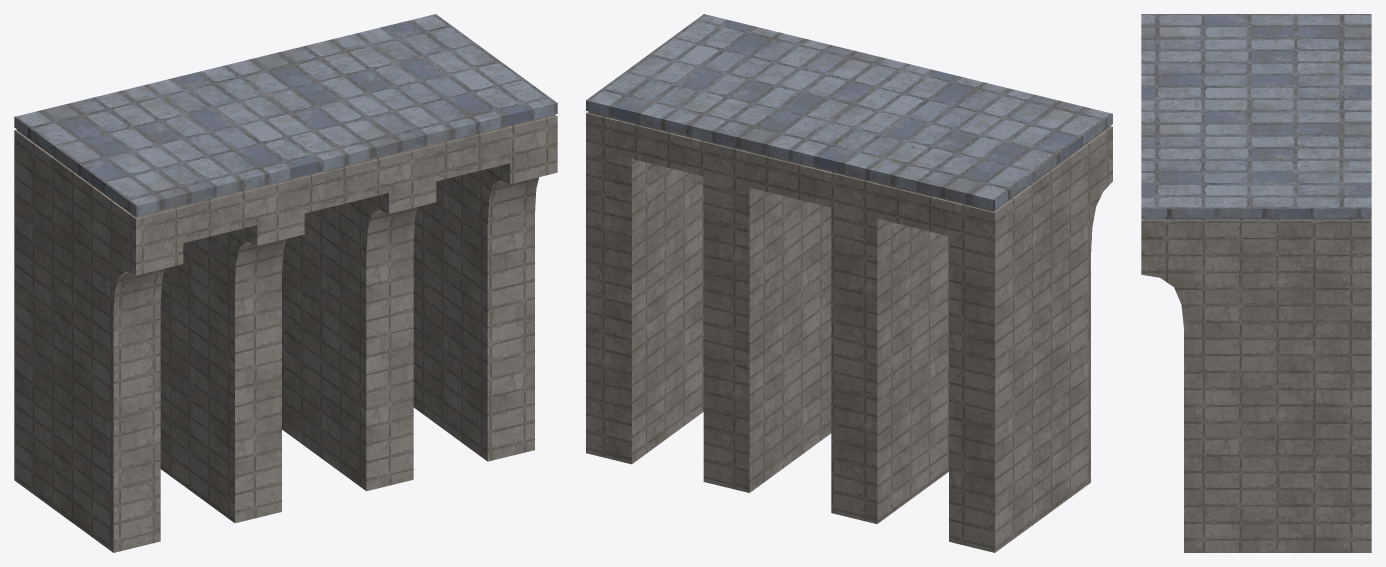
File: SewerSet4_12mV1.fbx
3 renders of one model, left to right at view 1: azimuth 30°, elevation 25°; view 2: azimuth 150°, elevation 25°; view 3: azimuth 270°, elevation 25°, orthographic. The views are drawn at different scales.
Parts seen in each view (by area): view 1: Box090; view 2: Box090; view 3: Box090.
Part boxes in pixels (x1,y1,x2,y2): Box090: [14, 14, 557, 552]; Box090: [586, 14, 1112, 552]; Box090: [1141, 14, 1371, 552].
Size of the model in its own units: 2500 by 2061 by 1250.
